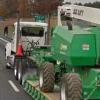Tractor: (10, 15, 100, 100)
